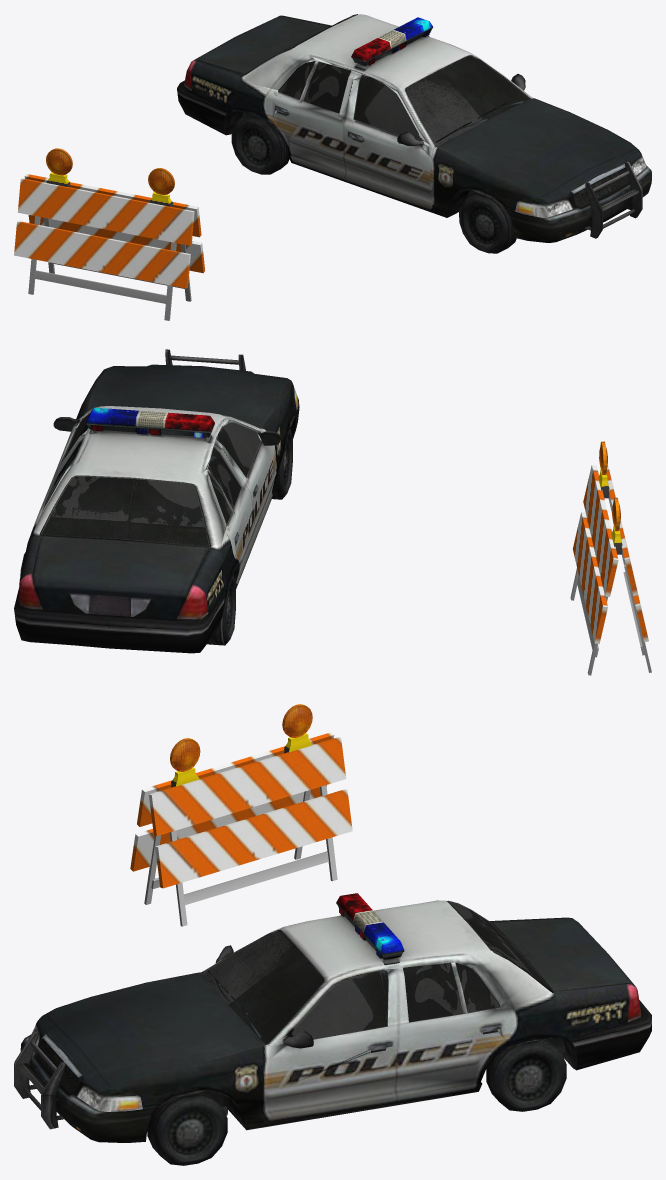
File: PoliceCar.fbx
3 renders of one model, top to bottom at view 1: azimuth 30°, elevation 25°; view 2: azimuth 150°, elevation 25°; view 3: azimuth 270°, elevation 25°, orthographic. The views are drawn at different scales.
Parts seen in each view (by area): view 1: police_car, group2_pCube29; view 2: police_car, group2_pCube29; view 3: police_car, group2_pCube29.
Boxes of the visible parts, x1=… form: police_car: x1=177, y1=14, x2=651, y2=253; group2_pCube29: x1=14, y1=148, x2=205, y2=320; police_car: x1=14, y1=349, x2=299, y2=653; group2_pCube29: x1=570, y1=441, x2=651, y2=675; police_car: x1=14, y1=893, x2=651, y2=1165; group2_pCube29: x1=130, y1=704, x2=352, y2=926.
Bounding box in the file's own units: 11.95 × 2.97 × 9.8.
2 materials, 2 textured.
